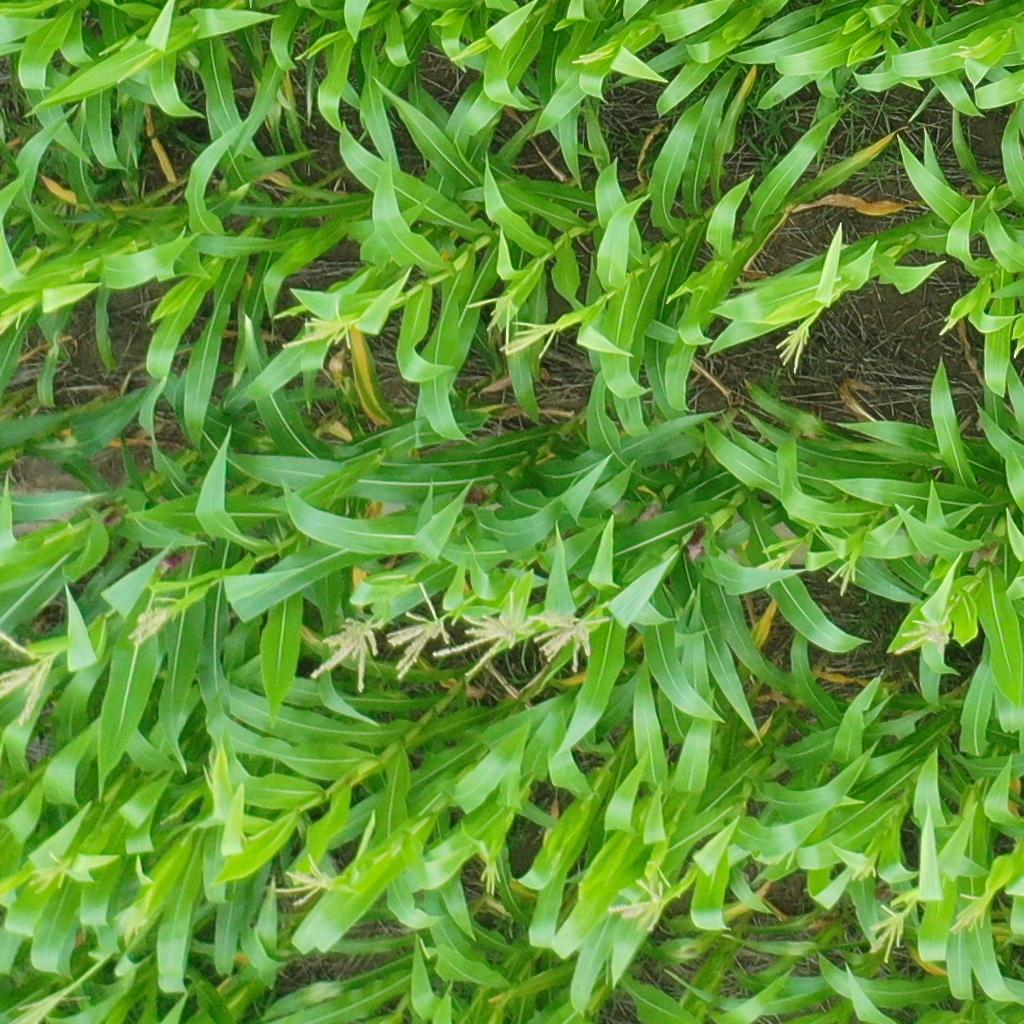Tassel: (434, 586, 537, 680), (388, 581, 455, 683), (308, 615, 385, 695), (1, 632, 59, 730), (529, 611, 611, 676), (608, 878, 668, 933), (272, 855, 334, 908), (465, 290, 518, 347), (125, 596, 182, 647), (775, 310, 820, 373), (282, 316, 358, 352), (499, 321, 561, 362), (868, 904, 908, 965), (896, 619, 957, 656), (9, 988, 66, 1023), (947, 891, 992, 935), (30, 852, 73, 896), (757, 549, 794, 592), (826, 559, 858, 596), (571, 42, 615, 67), (1, 306, 30, 338), (479, 860, 502, 899), (890, 885, 922, 907), (851, 863, 877, 883), (775, 848, 797, 870), (939, 315, 958, 337), (951, 42, 973, 58)
